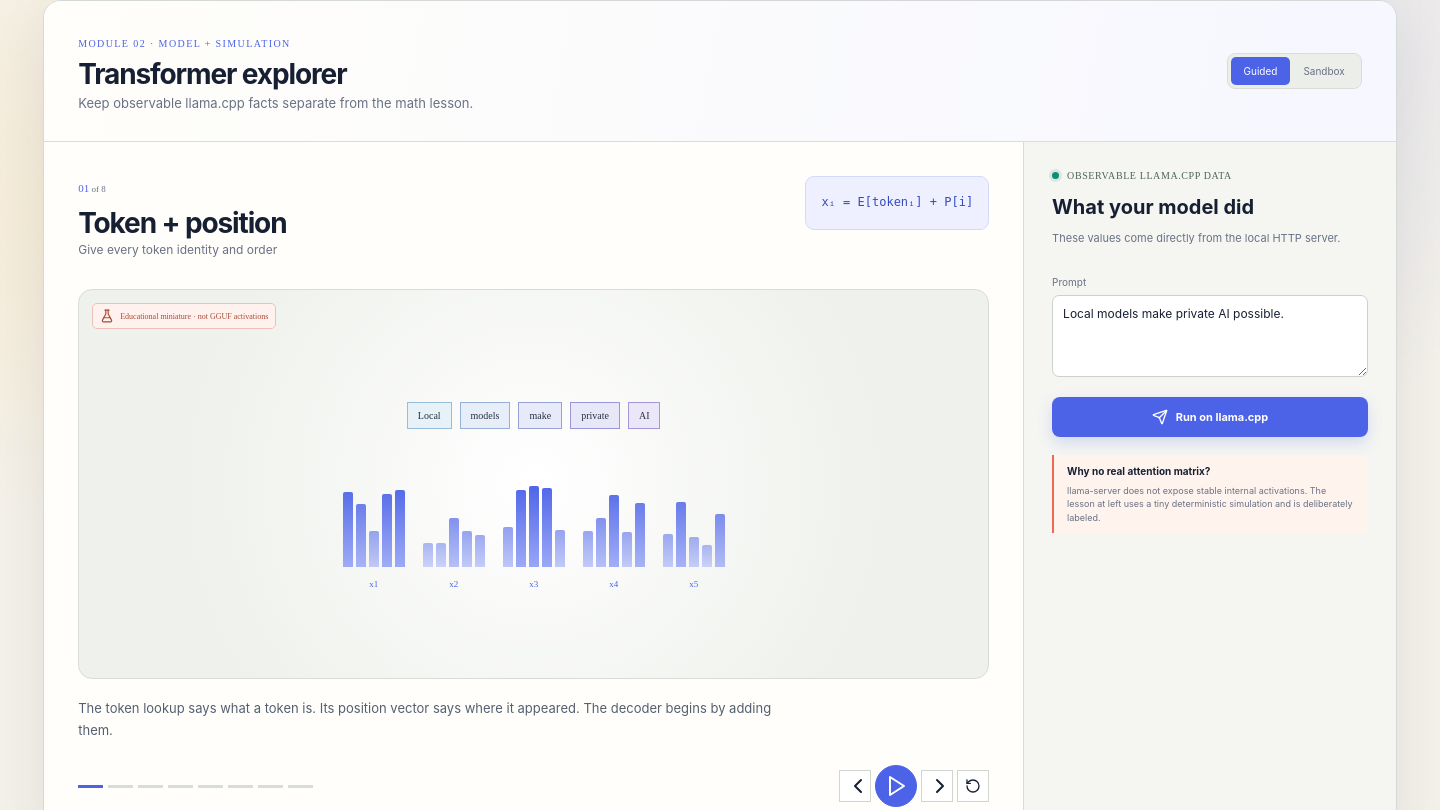
Test: TransformerExplorer › labels simulated activations and navigates the lesson
Check: the text "Educational miniature · not GGUF activations" is shown, box 92,303 -> 276,329
Check: the heading "Token + position" is shown, box 78,206 -> 286,240
Click the button named "Next step". click: coordinates (937, 786)
box: 921,770 -> 953,802
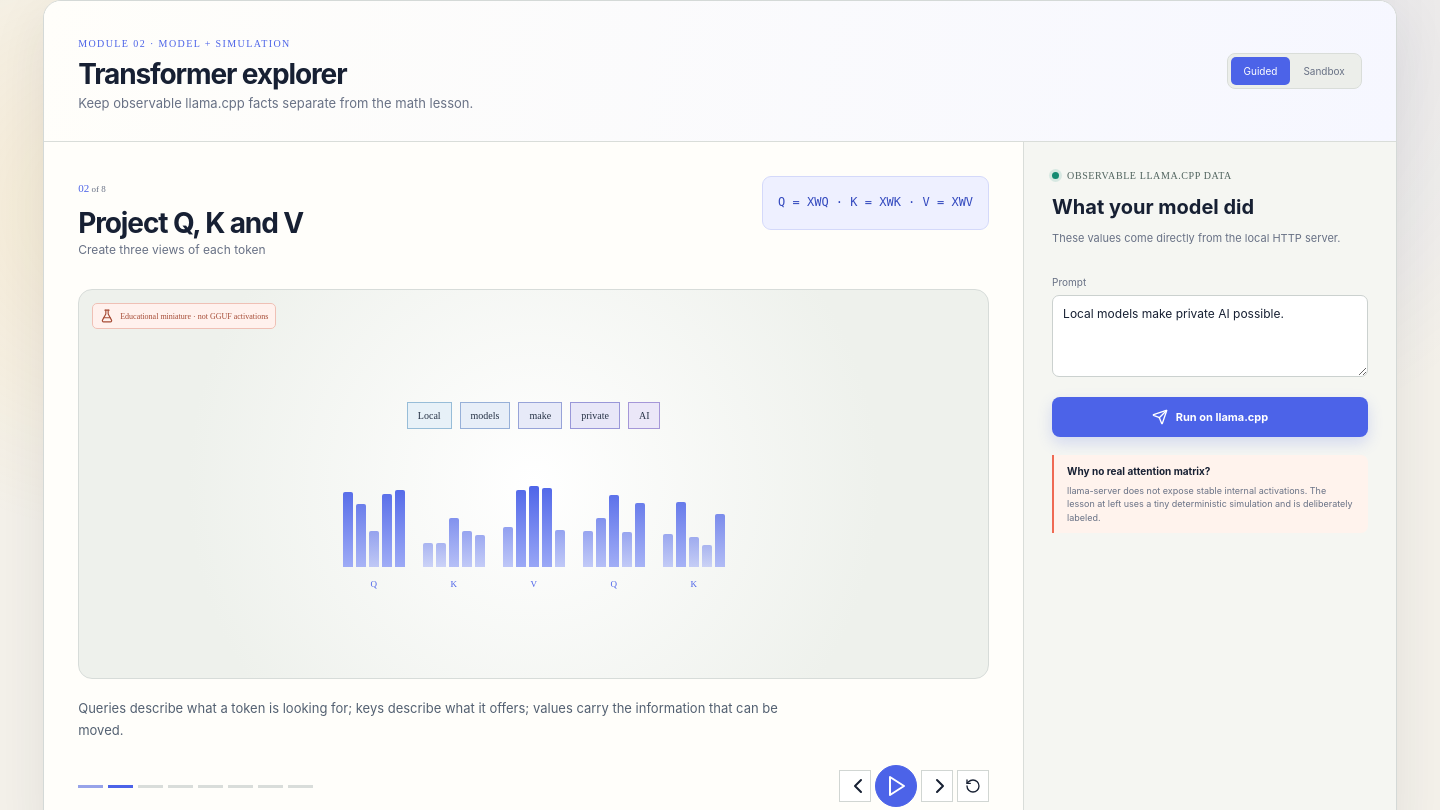
Check: the heading "Project Q, K and V" is shown, box 78,206 -> 303,240
